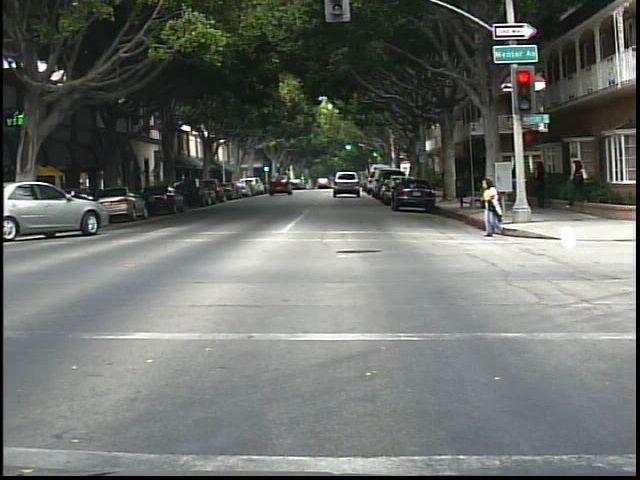person: (475, 174, 510, 242), (564, 150, 593, 210), (534, 155, 556, 212)
